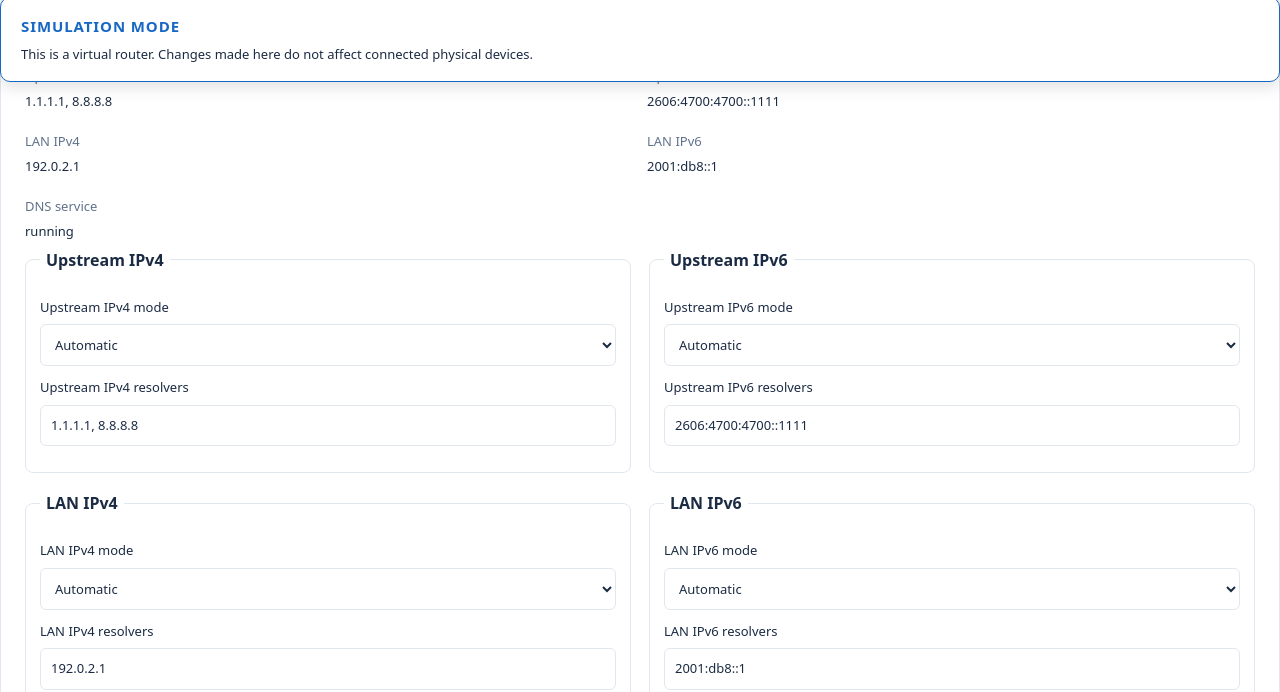
Test: previews real draft values and displays only backend apply/readback outcomes
(page scrolled)
Select "Manual" in the dropdown labelled "Upstream IPv4 mode". click: (328, 345)
box: [40, 324, 616, 366]
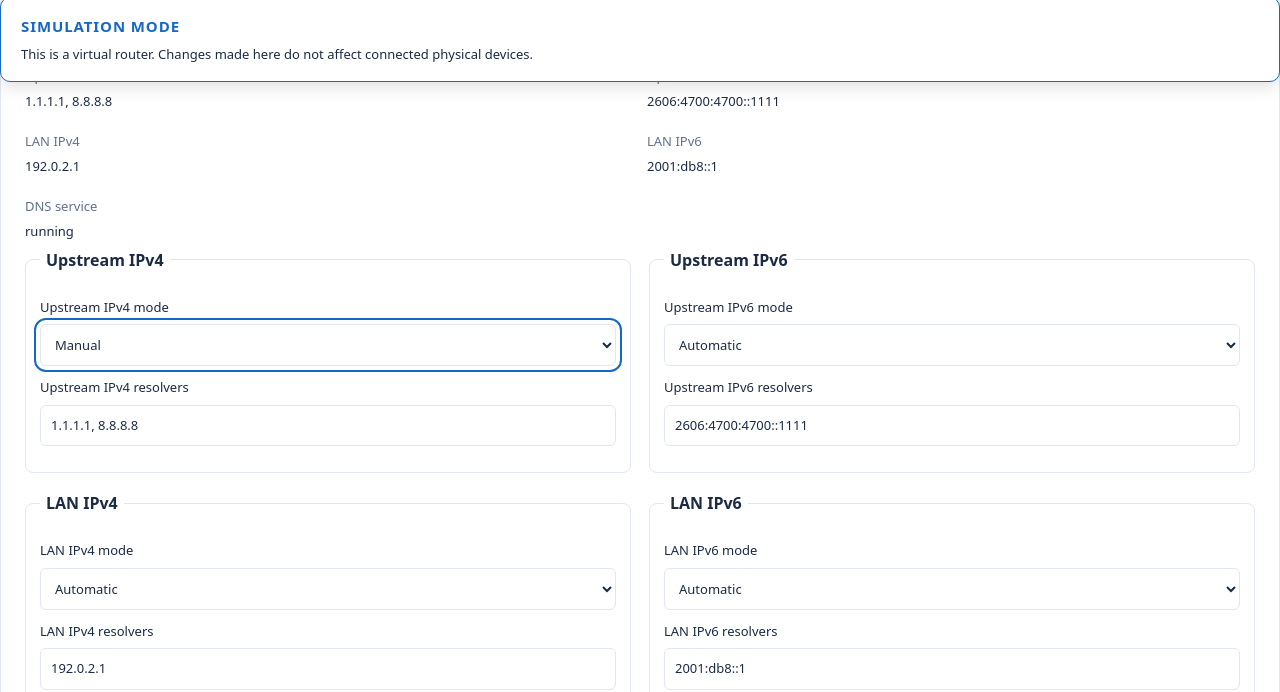
Replace the text in the field labelled "Upstream IPv4 resolvers" with "9.9.9.9". click: (328, 425)
box: [40, 404, 616, 446]
(page scrolled)
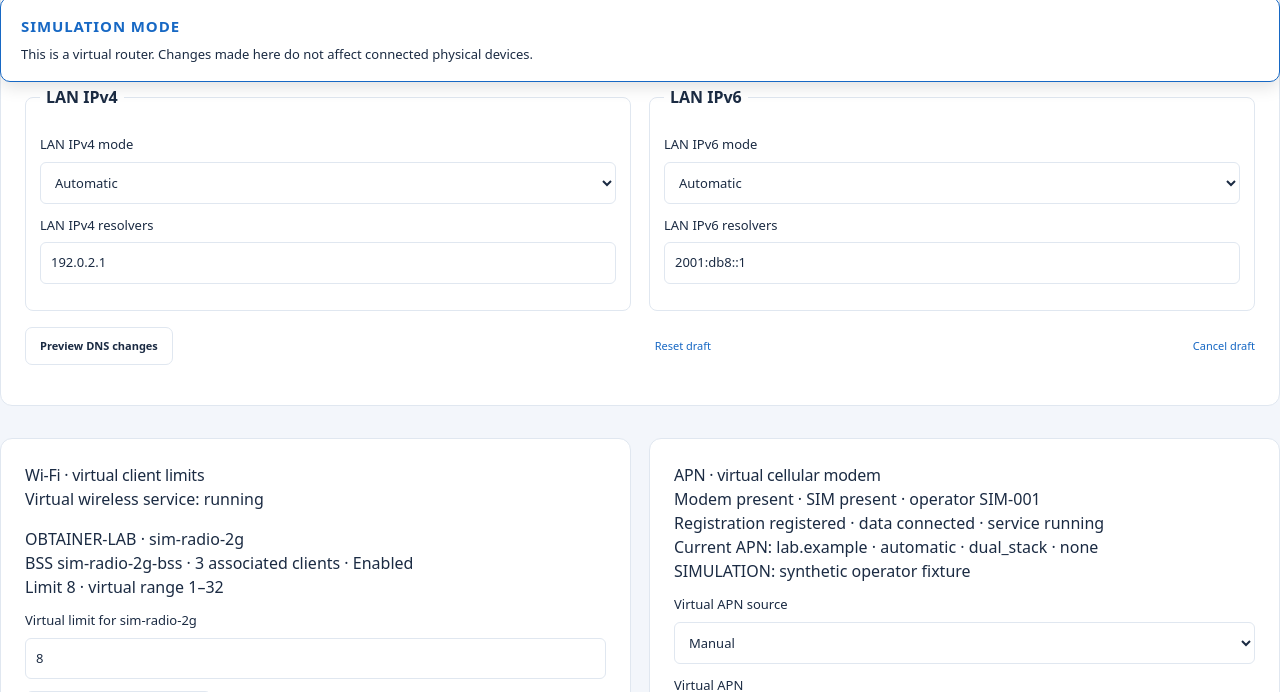
Click the button "Preview DNS changes". click: (99, 346)
box: [25, 326, 173, 365]
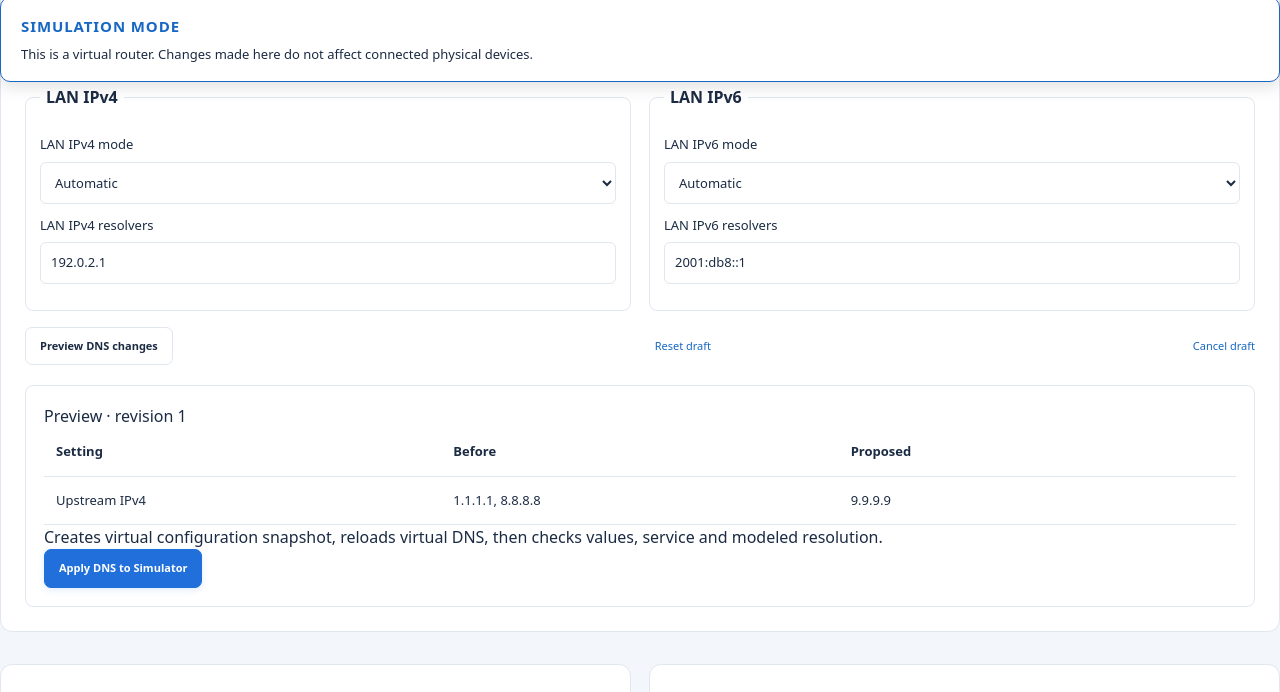
expect the element named "DNS change preview" shows "9.9.9.9": met, box [851, 490, 891, 508]
Click the button "Apply DNS to Simulator". click: (123, 568)
box: [44, 549, 202, 588]
(page scrolled)
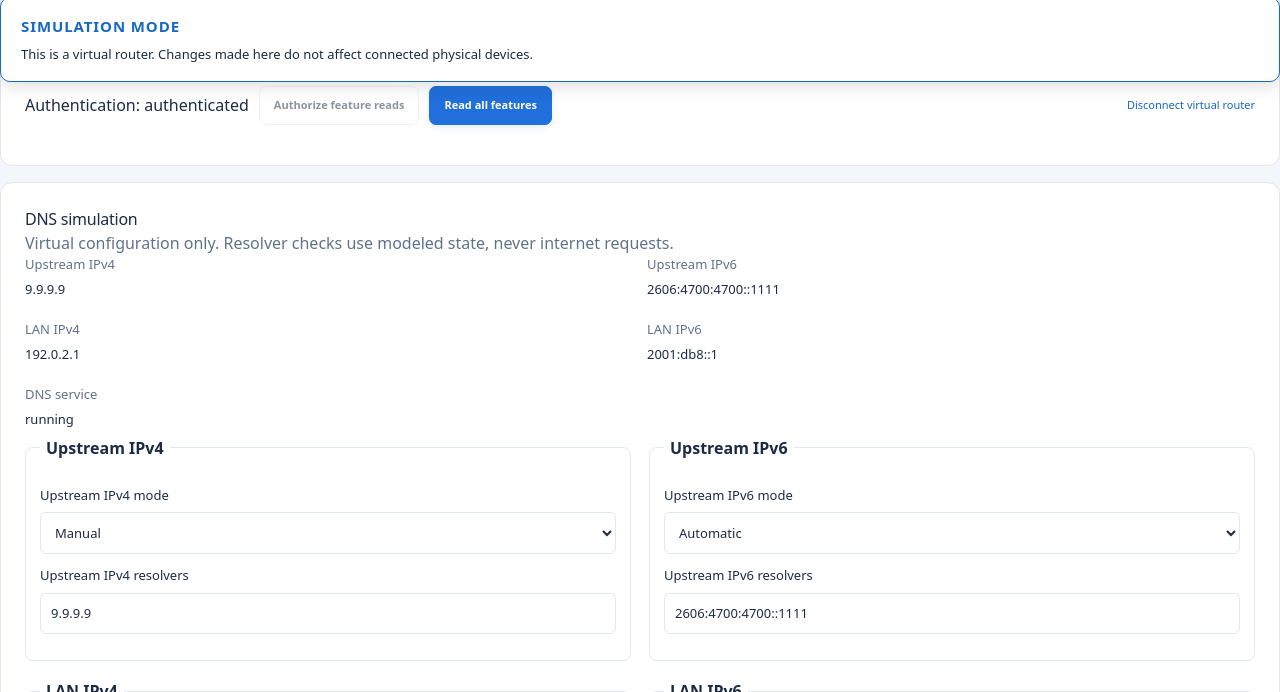
expect the element named "Current simulated DNS" shows "9.9.9.9": met, box [25, 280, 65, 298]
